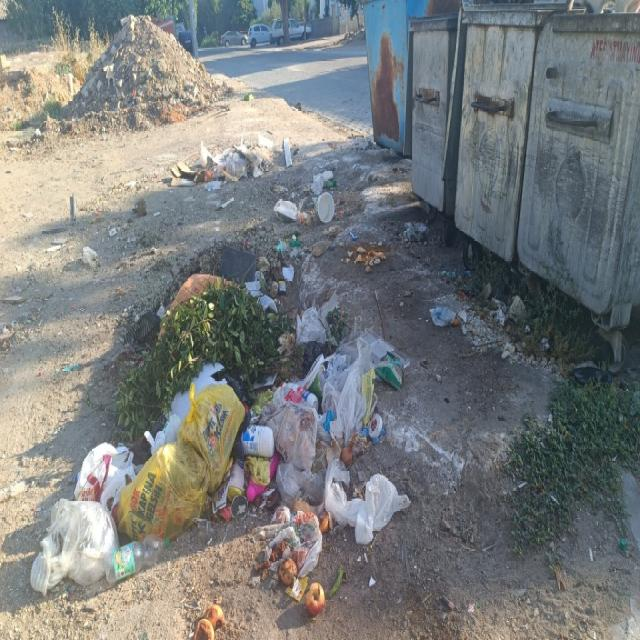garbage: (29, 224, 411, 622), (433, 261, 544, 375), (176, 135, 299, 184), (277, 192, 356, 220)
